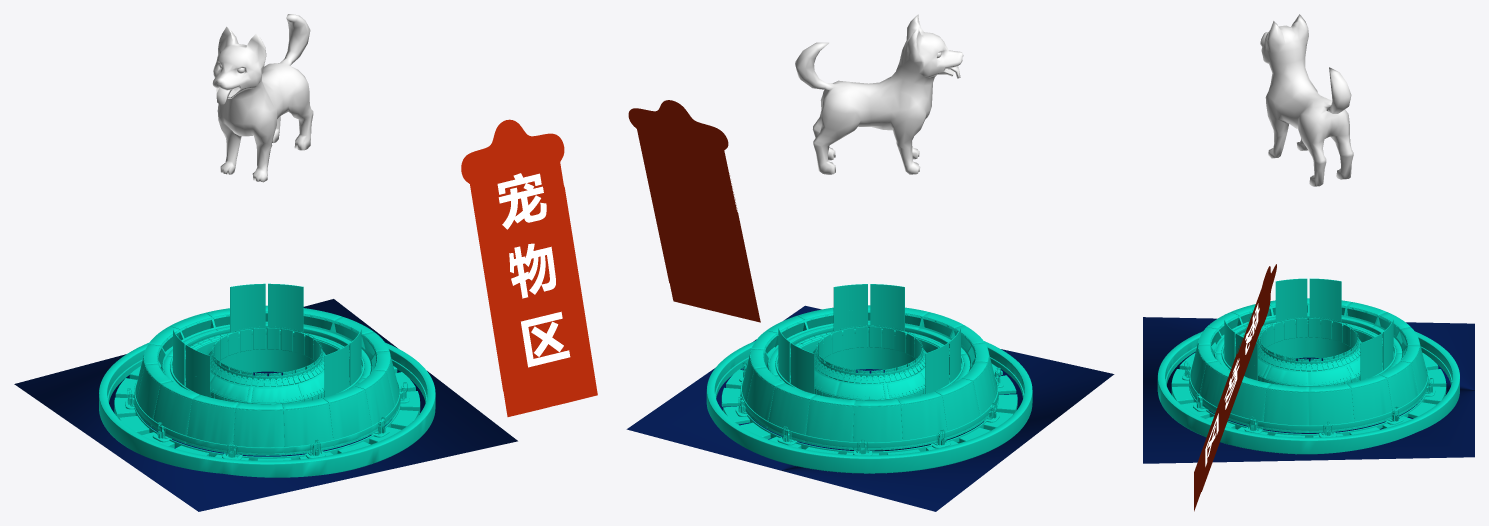
3 renders of one model, left to right at view 1: azimuth 30°, elevation 25°; view 2: azimuth 150°, elevation 25°; view 3: azimuth 270°, elevation 25°, orthographic. The views are drawn at different scales.
Parts seen in each view (by area): view 1: object 3, 贝塞尔曲线.016; view 2: object 3, 贝塞尔曲线.016; view 3: object 3, 贝塞尔曲线.016.
Part boxes in pixels (x1=…): object 3: x1=14, y1=14, x2=570, y2=511; 贝塞尔曲线.016: x1=461, y1=119, x2=597, y2=416; object 3: x1=626, y1=14, x2=1114, y2=511; 贝塞尔曲线.016: x1=628, y1=100, x2=760, y2=322; object 3: x1=1143, y1=14, x2=1474, y2=466; 贝塞尔曲线.016: x1=1194, y1=264, x2=1276, y2=511.
Bounding box in the file's own units: 7.76 × 6.88 × 5.73.
